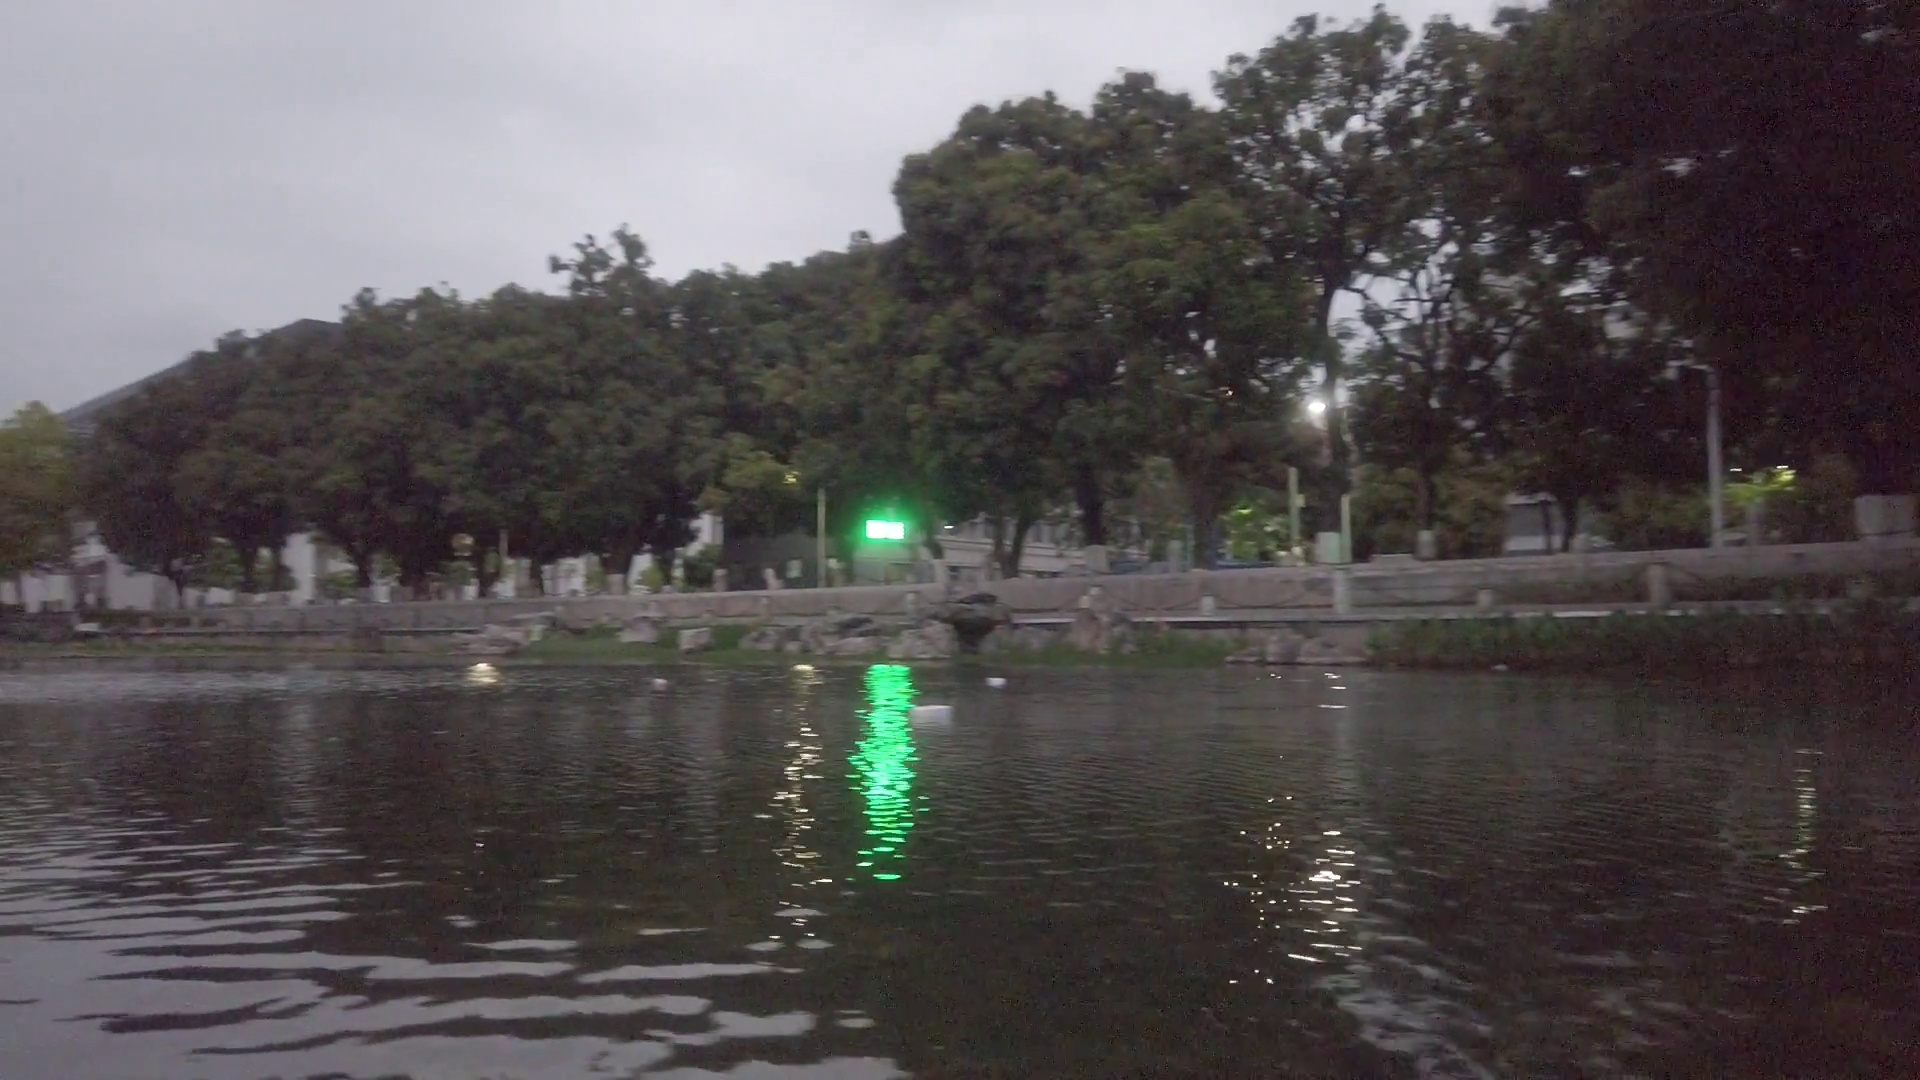bottle: (645, 679, 673, 694)
carton: (906, 705, 956, 724)
paper: (982, 675, 1011, 687)
